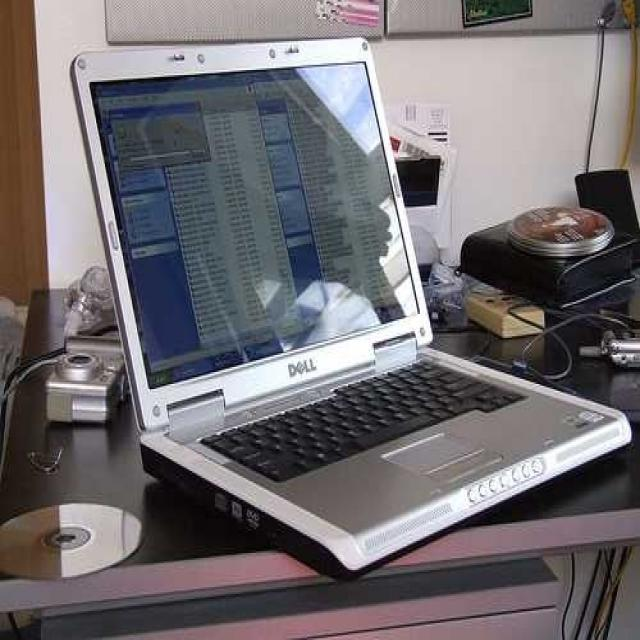laptop: (82, 48, 634, 555)
